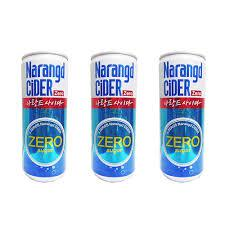narangdcider: (151, 50, 210, 185), (15, 50, 73, 187), (85, 49, 137, 186)
